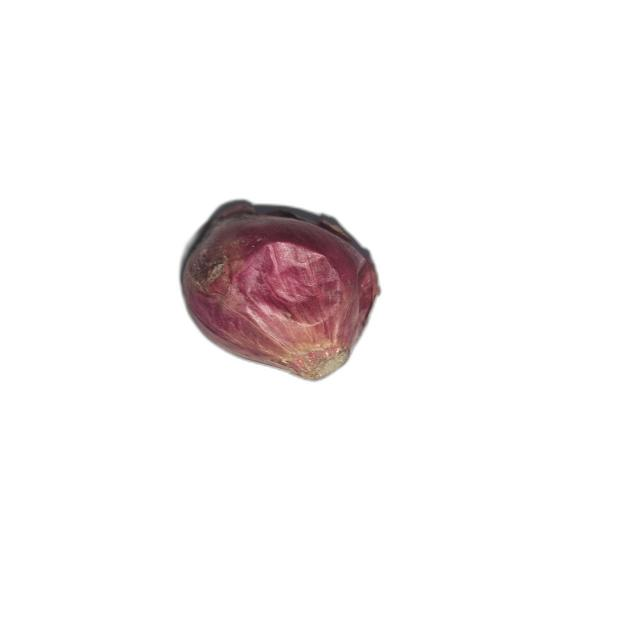onion: (181, 203, 380, 381)
